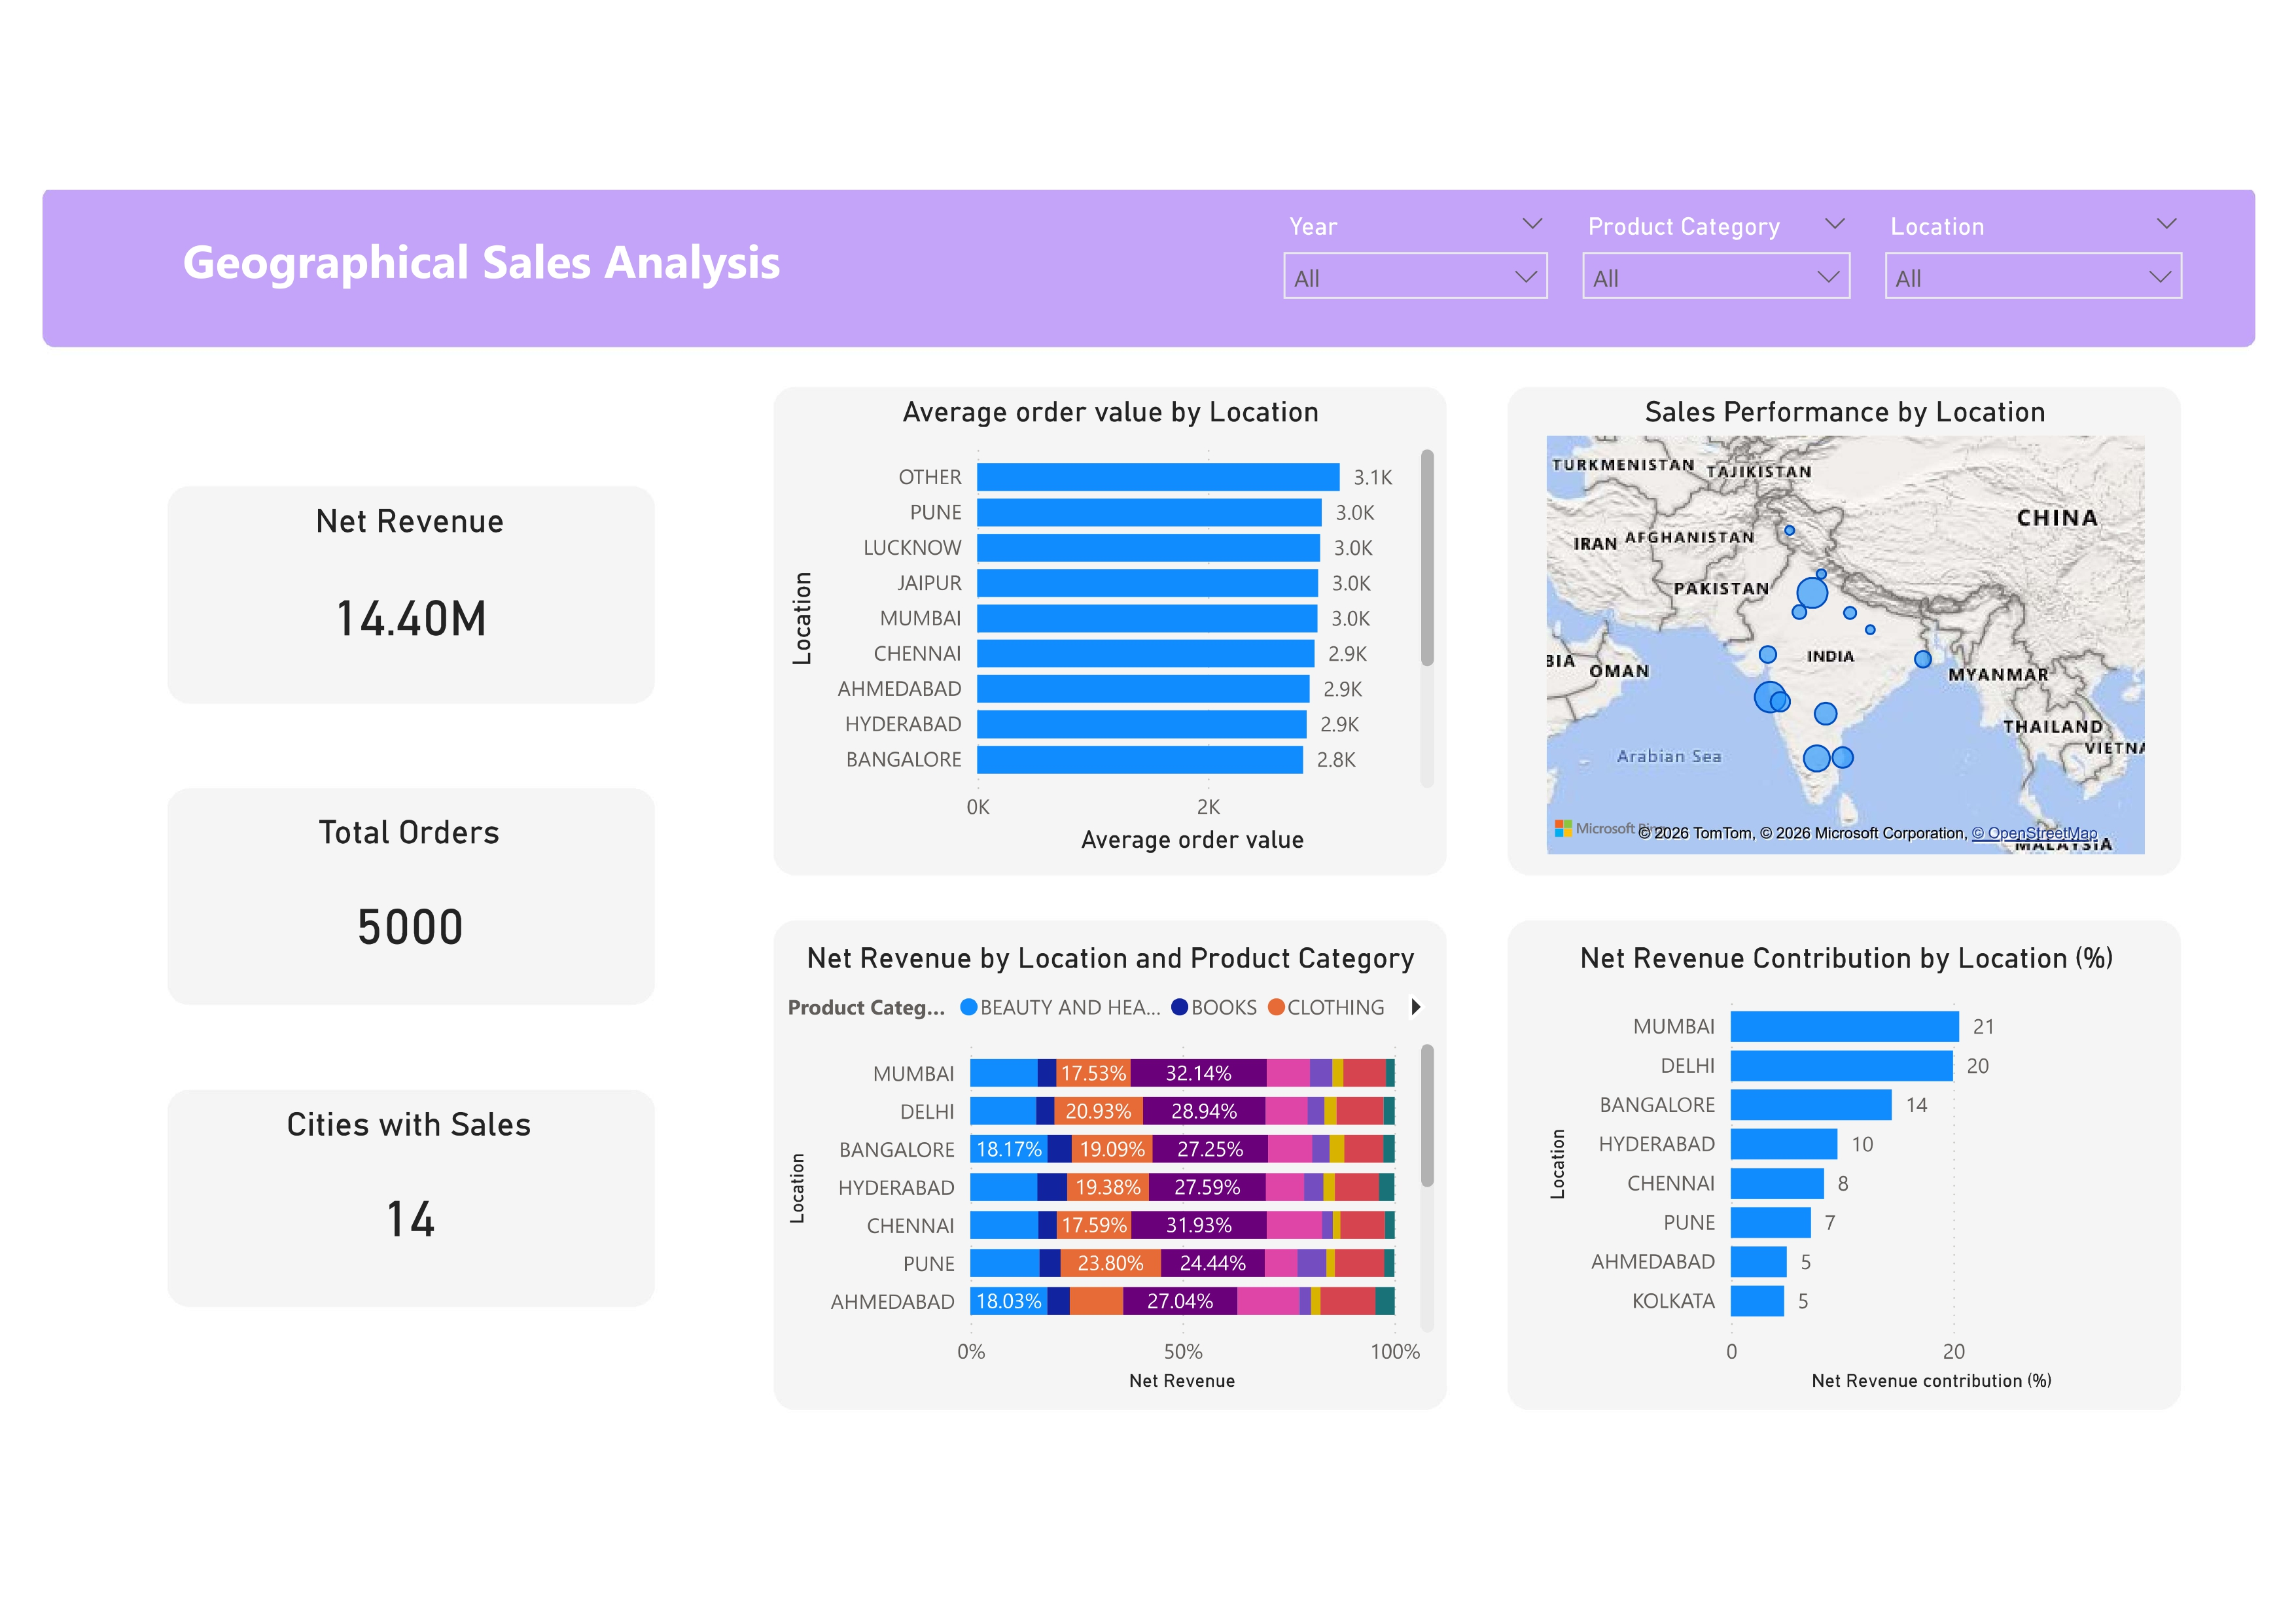

Layout of this report page (visuals, bound fields, positions):
{"tool":"powerbi","page":{"name":"Geographical Sales Analysis","canvas":[1280,720],"ordinal":3},"visuals":[{"type":"slicer","fields":{"Values":["Ecommerce_sales.Month_Year.Variation.Date Hierarchy.Year","Ecommerce_sales.Month_Year.Variation.Date Hierarchy.Month"]},"box":[707.5,7.5,173.8,70],"z":0},{"type":"slicer","fields":{"Values":["Ecommerce_sales.Location"]},"box":[1056.2,7.5,191.2,70],"z":1000},{"type":"card","title":"Net Revenue","fields":{"Values":["Sum(Ecommerce_sales.Net_amount)"]},"box":[76.2,180,272.5,108.8],"z":2000},{"type":"card","title":"Total Orders","fields":{"Values":["Ecommerce_sales.Total orders"]},"box":[80,360,264.3,105.7],"z":3000},{"type":"barChart","title":"Net Revenue Contribution by Location (%)","fields":{"Category":["Ecommerce_sales.Location"],"Y":["Ecommerce_sales.Location contribution %"]},"box":[865.7,434.3,355.7,265.7],"z":4000},{"type":"map","title":"Sales Performance by Location","fields":{"Category":["Ecommerce_sales.Location"],"Size":["Ecommerce_sales.Total revenue"]},"box":[865.5,117.9,356,271.4],"z":5000},{"type":"hundredPercentStackedBarChart","title":"Net Revenue by Location and Product Category","fields":{"Category":["Ecommerce_sales.Location"],"Series":["Ecommerce_sales.Product_category"],"Y":["Sum(Ecommerce_sales.Net_amount)"]},"box":[426.2,433.8,383.8,266.2],"z":6000},{"type":"barChart","fields":{"Category":["Ecommerce_sales.Location"],"Y":["Ecommerce_sales.Average order value"]},"box":[426.2,117.9,383.3,271.4],"z":7000},{"type":"card","title":"Cities with Sales","fields":{"Values":["Ecommerce_sales.Cities Covered"]},"box":[80,528.8,263.8,106.2],"z":8000},{"type":"slicer","fields":{"Values":["Ecommerce_sales.Product_category"]},"box":[881.2,7.5,175,70],"z":9000},{"type":"textbox","box":[76.2,16.7,427.4,52.4],"z":10000}]}

Visuals, with their boxes on the page's 1280x720 design canvas (x1, y1, x2, y2). These are canvas units, not pixel positions in the 2296x1623 screenshot, which may show the page scaled, cropped or inside an application window:
slicer - Ecommerce_sales.Month_Year.Variation.Date Hierarchy.Year x Ecommerce_sales.Month_Year.Variation.Date Hierarchy.Month: (left=708, top=8, right=881, bottom=78)
slicer - Ecommerce_sales.Location: (left=1056, top=8, right=1247, bottom=78)
"Net Revenue" card: (left=76, top=180, right=349, bottom=289)
"Total Orders" card: (left=80, top=360, right=344, bottom=466)
"Net Revenue Contribution by Location (%)" barChart: (left=866, top=434, right=1221, bottom=700)
"Sales Performance by Location" map: (left=866, top=118, right=1222, bottom=389)
"Net Revenue by Location and Product Category" hundredPercentStackedBarChart: (left=426, top=434, right=810, bottom=700)
barChart - Ecommerce_sales.Location x Ecommerce_sales.Average order value: (left=426, top=118, right=810, bottom=389)
"Cities with Sales" card: (left=80, top=529, right=344, bottom=635)
slicer - Ecommerce_sales.Product_category: (left=881, top=8, right=1056, bottom=78)
textbox: (left=76, top=17, right=504, bottom=69)
